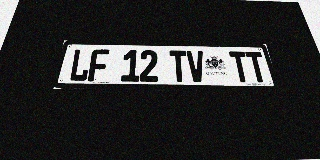1: (121, 50, 140, 82)
2: (140, 50, 158, 82)
F: (88, 49, 109, 82)
L: (68, 49, 92, 81)
T: (245, 51, 269, 82), (229, 51, 252, 82), (169, 50, 188, 82)
V: (186, 51, 206, 82)
